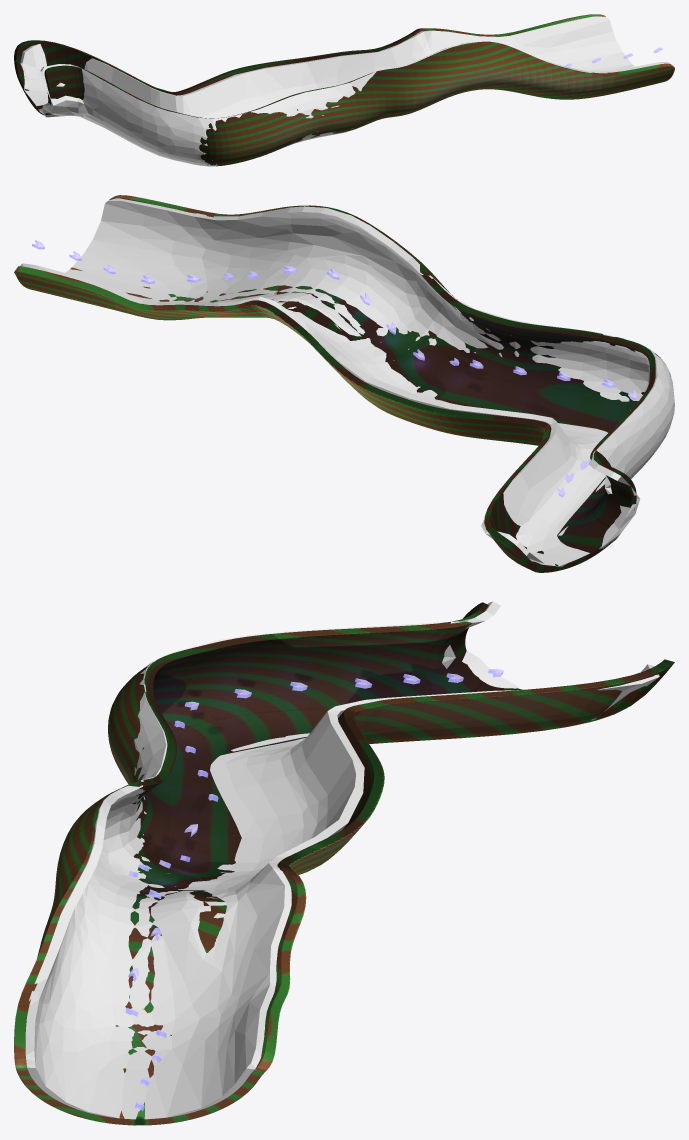
The model's file is space_course_2.glb.
3 views of the same model, one above another, from view 1: azimuth 30°, elevation 25°; view 2: azimuth 150°, elevation 25°; view 3: azimuth 270°, elevation 25° (orthographic). The views are drawn at different scales.
Parts seen in each view (by area): view 1: CourseFloor_Phys, CourseFloor; view 2: CourseFloor_Phys, CourseFloor; view 3: CourseFloor_Phys, CourseFloor.
Boxes of the visible parts, x1,y1,x2,y2 form: CourseFloor_Phys: [20, 16, 669, 166]; CourseFloor: [14, 14, 674, 166]; CourseFloor_Phys: [20, 198, 674, 566]; CourseFloor: [14, 195, 670, 572]; CourseFloor_Phys: [25, 601, 659, 1125]; CourseFloor: [14, 602, 674, 1125].
Size of the model in its own units: 10.18 by 1.59 by 6.32.
Materials: 2 (1 with a texture image).
